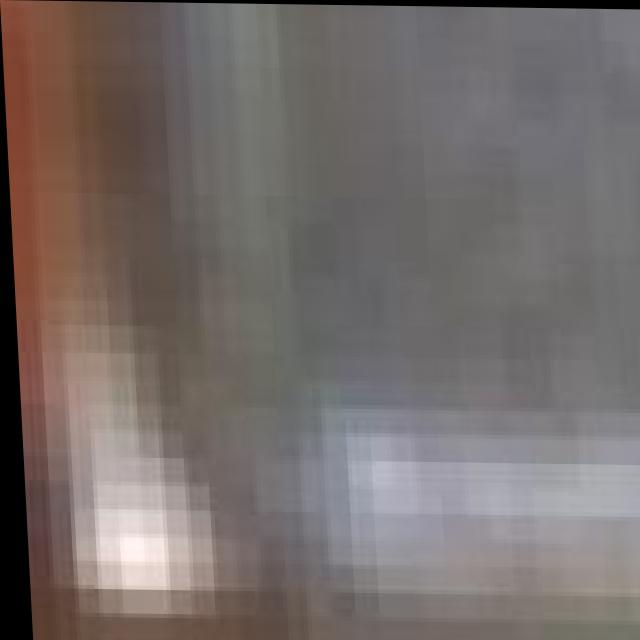inductor: (76, 1, 640, 639)
